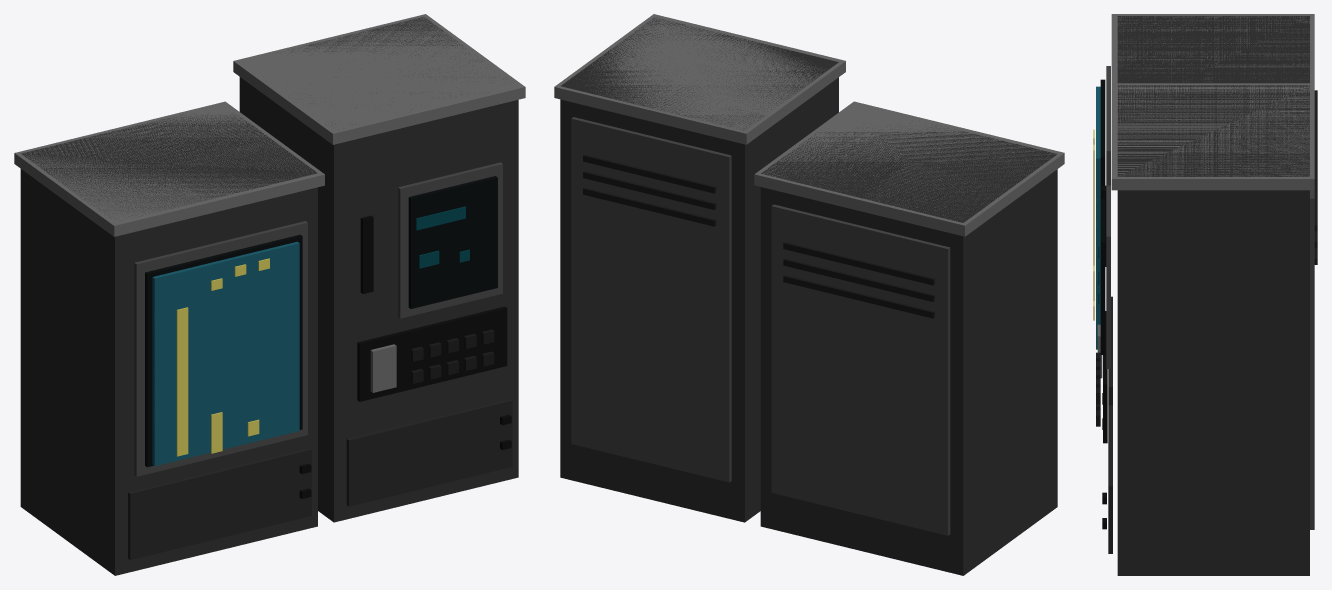
File: CMU3DMappingComputer.glb
3 renders of one model, left to right at view 1: azimuth 30°, elevation 25°; view 2: azimuth 150°, elevation 25°; view 3: azimuth 270°, elevation 25°, orthographic.
Parts seen in each view (by area): view 1: closed cabinet body (×2), top casing (×2), cyan mapping glass, lower service hatch (×2), dark display glass (×2), CRT raised bezel (×2), equipment bay, yellow map trace, bay handle, left vertical control slot, cyan display data; view 2: closed cabinet body (×2), rear service cover (×2), top casing (×2), rear ventilation slot (×6); view 3: closed cabinet body (×2), top casing (×2), rear service cover, dark display glass (×2), CRT raised bezel (×2), cyan mapping glass, lower service hatch (×2), equipment bay.
Part boxes in pixels (<box>): closed cabinet body (×2): <box>20,17,518,575</box>; top casing (×2): <box>14,14,525,236</box>; cyan mapping glass: <box>152,241,299,465</box>; lower service hatch (×2): <box>128,399,512,559</box>; dark display glass (×2): <box>145,176,497,467</box>; CRT raised bezel (×2): <box>134,162,502,476</box>; equipment bay: <box>357,306,507,401</box>; yellow map trace: <box>176,307,188,456</box>; bay handle: <box>370,344,396,392</box>; left vertical control slot: <box>360,215,373,293</box>; cyan display data: <box>416,206,465,230</box>; closed cabinet body (×2): <box>560,18,1057,575</box>; rear service cover (×2): <box>571,117,950,535</box>; top casing (×2): <box>554,14,1064,236</box>; rear ventilation slot (×6): <box>583,154,934,318</box>; closed cabinet body (×2): <box>1117,16,1309,575</box>; top casing (×2): <box>1111,14,1314,190</box>; rear service cover: <box>1310,190,1314,529</box>; dark display glass (×2): <box>1100,79,1105,354</box>; CRT raised bezel (×2): <box>1106,66,1110,368</box>; cyan mapping glass: <box>1096,86,1100,349</box>; lower service hatch (×2): <box>1108,296,1112,553</box>; equipment bay: <box>1103,311,1107,443</box>.
Size of the model in its own units: 1.56 by 1.42 by 0.724.
